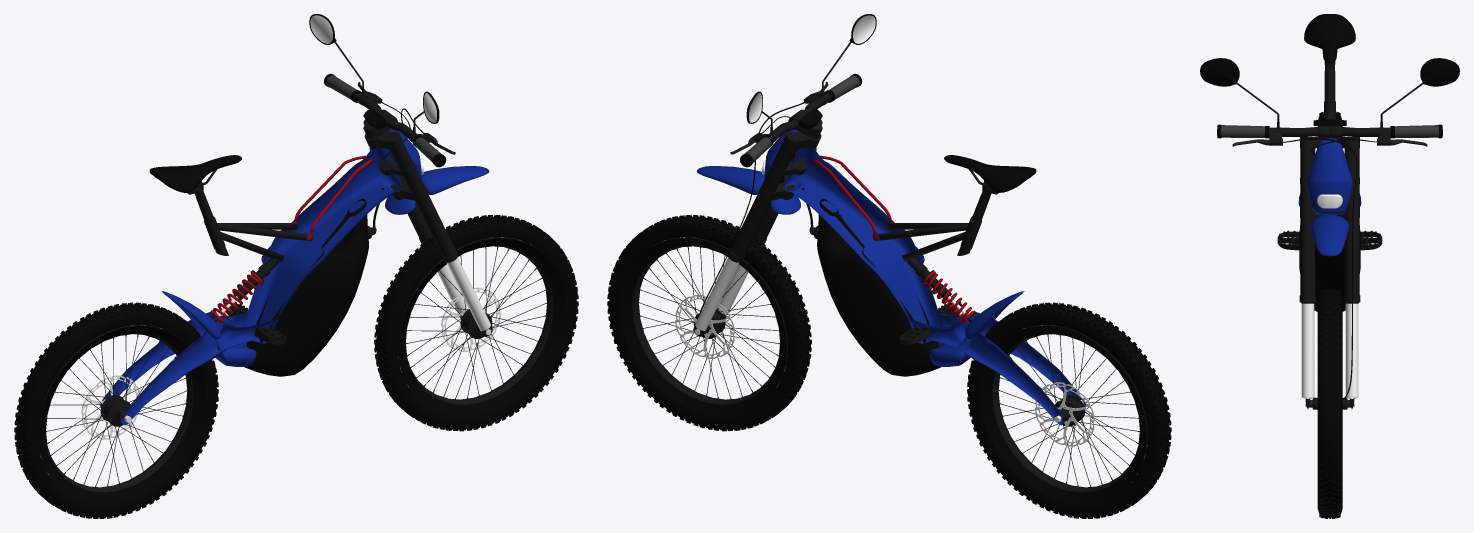
The model's file is moto.glb.
3 views of the same model, side by side, from view 1: azimuth 30°, elevation 25°; view 2: azimuth 150°, elevation 25°; view 3: azimuth 270°, elevation 25° (orthographic).
Parts seen in each view (by area): view 1: Object_9, Object_11, Object_8, Object_6, Object_5, Object_10, Object_7, Object_13, Object_12, Object_14, Object_3, Object_2; view 2: Object_9, Object_11, Object_8, Object_5, Object_6, Object_10, Object_13, Object_7, Object_12, Object_14, Object_3, Object_2; view 3: Object_5, Object_9, Object_10, Object_11, Object_12, Object_2, Object_4, Object_13.
Boxes of the visible parts, x1=… form: Object_9: x1=244, y1=188, x2=578, y2=431; Object_11: x1=99, y1=129, x2=489, y2=425; Object_8: x1=14, y1=109, x2=387, y2=518; Object_6: x1=46, y1=232, x2=553, y2=487; Object_5: x1=38, y1=41, x2=492, y2=492; Object_10: x1=149, y1=14, x2=446, y2=192; Object_7: x1=197, y1=95, x2=417, y2=322; Object_13: x1=81, y1=160, x2=501, y2=439; Object_12: x1=103, y1=257, x2=491, y2=422; Object_14: x1=210, y1=155, x2=371, y2=323; Object_3: x1=310, y1=15, x2=436, y2=122; Object_2: x1=326, y1=75, x2=441, y2=162; Object_9: x1=607, y1=188, x2=941, y2=431; Object_11: x1=697, y1=129, x2=1085, y2=425; Object_8: x1=799, y1=109, x2=1171, y2=518; Object_5: x1=693, y1=41, x2=1147, y2=492; Object_6: x1=632, y1=231, x2=1139, y2=487; Object_10: x1=699, y1=14, x2=1036, y2=315; Object_13: x1=675, y1=160, x2=1094, y2=446; Object_7: x1=768, y1=95, x2=988, y2=322; Object_12: x1=694, y1=257, x2=1083, y2=422; Object_14: x1=814, y1=155, x2=975, y2=323; Object_3: x1=749, y1=15, x2=875, y2=122; Object_2: x1=745, y1=75, x2=859, y2=162; Object_5: x1=1236, y1=61, x2=1423, y2=408; Object_9: x1=1299, y1=218, x2=1360, y2=518; Object_10: x1=1200, y1=14, x2=1459, y2=400; Object_11: x1=1298, y1=138, x2=1361, y2=256; Object_12: x1=1301, y1=303, x2=1358, y2=406; Object_2: x1=1221, y1=125, x2=1438, y2=137; Object_4: x1=1232, y1=139, x2=1427, y2=407; Object_13: x1=1317, y1=194, x2=1342, y2=208.
Bounding box in the file's own units: 2.57 × 1.75 × 1.03.
